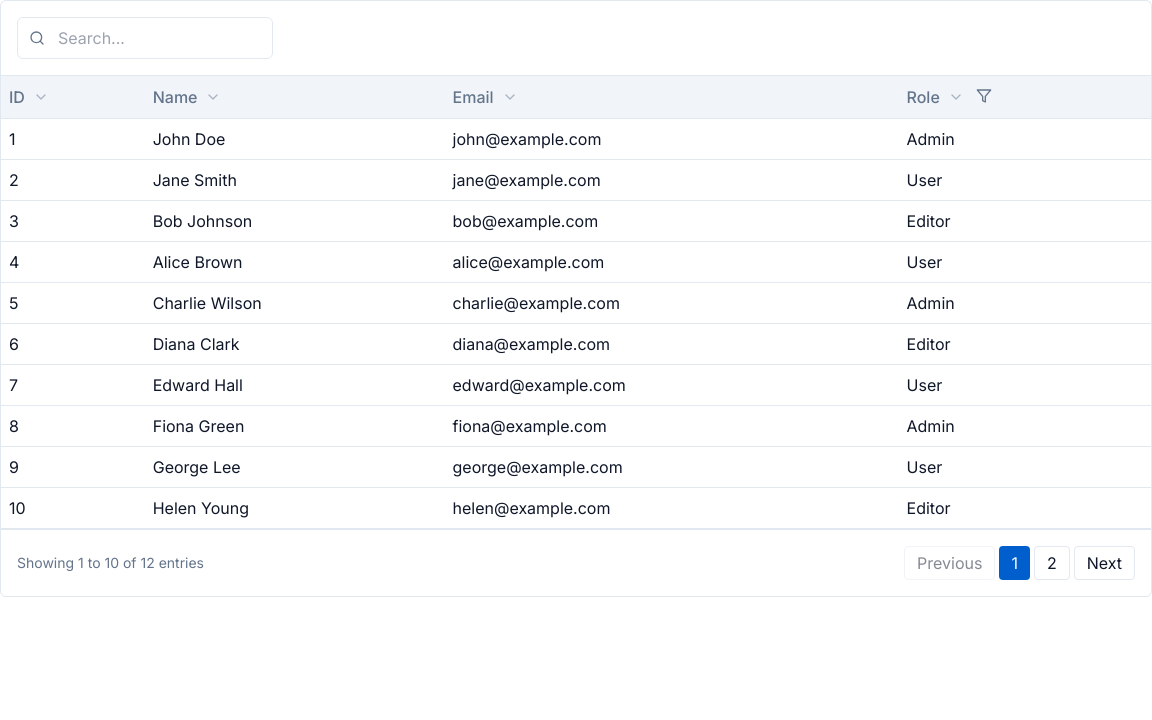
Test case: DataGrid Component › handles pagination correctly
Expected: the text "John Doe" is shown, [145,118,444,160]
Expected: the text "Julia White" is not shown
Go to next page
Click the button "Next" at (1104, 563), box [1074,546,1135,580]
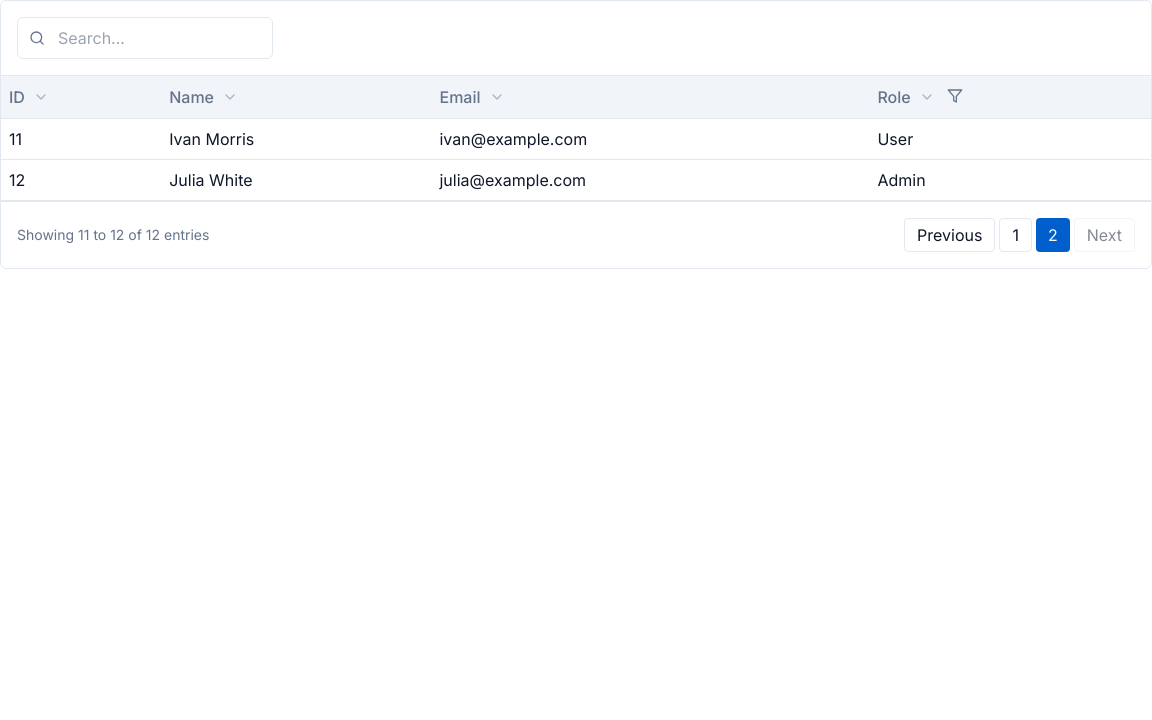
Result: the text "John Doe" is gone
Result: the text "Julia White" is shown at [161,160,432,200]
Go back to first page
Click the button "Previous" at (950, 235), box [904,218,995,252]
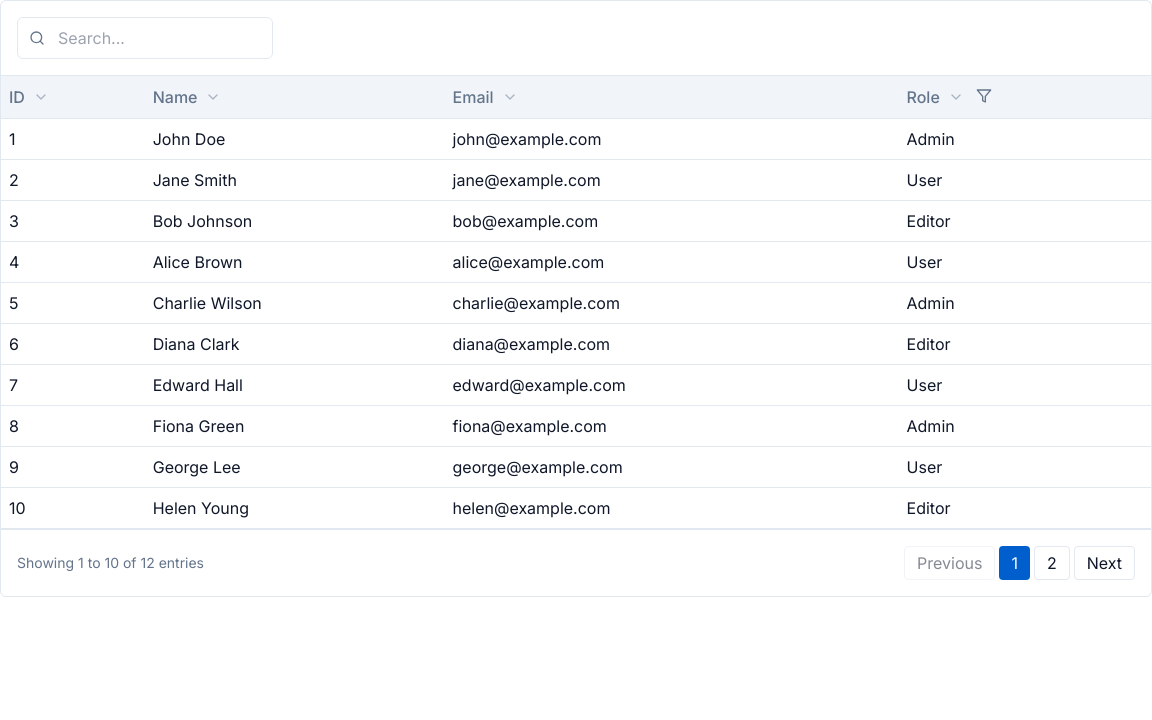
Result: the text "John Doe" is shown at [145,118,444,160]
Result: the text "Julia White" is gone
